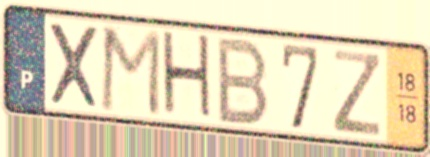7: (279, 40, 321, 131)
B: (215, 34, 273, 128)
H: (159, 27, 216, 126)
M: (97, 24, 163, 120)
X: (46, 18, 103, 113)
Z: (330, 46, 384, 139)
